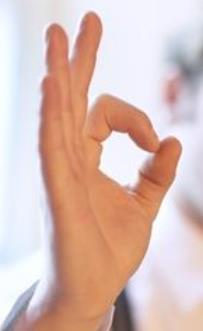left: (31, 7, 185, 299)
